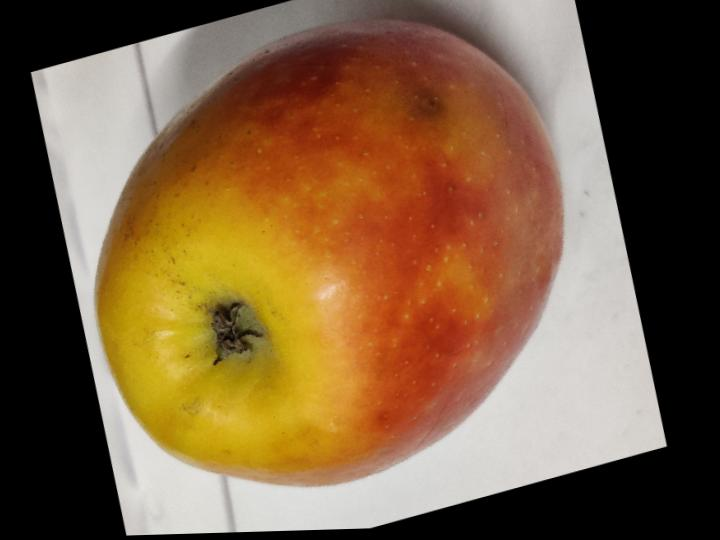apple: (95, 20, 561, 486)
